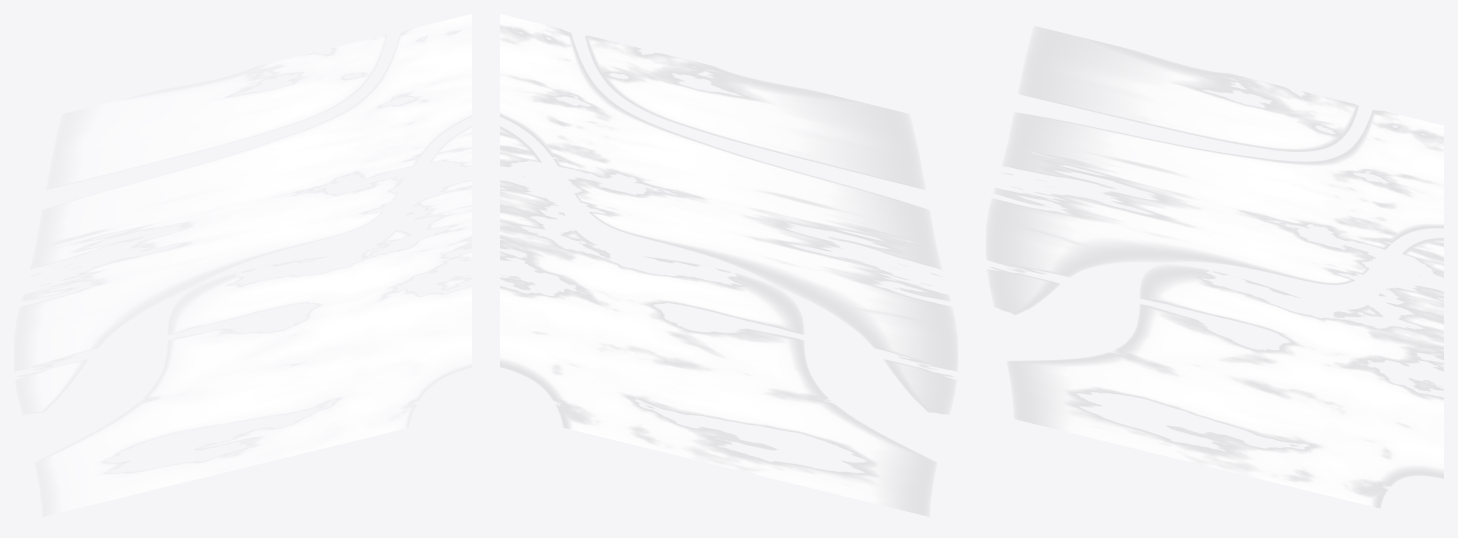
File: ascendente.glb
The picture shows the model from 3 angles, left to right: view 1: azimuth 30°, elevation 25°; view 2: azimuth 150°, elevation 25°; view 3: azimuth 330°, elevation 25°; orthographic projection.
Visible parts, largest first — view 1: 07_Ascendente plano; view 2: 07_Ascendente plano; view 3: 07_Ascendente plano.
Part boxes in pixels (x1=…): 07_Ascendente plano: x1=16, y1=14, x2=471, y2=515; 07_Ascendente plano: x1=500, y1=14, x2=955, y2=515; 07_Ascendente plano: x1=988, y1=27, x2=1443, y2=507.
Size of the model in its own units: 51.88 by 43.11 by 4.24e-07.
Materials: 1 (1 with a texture image).
